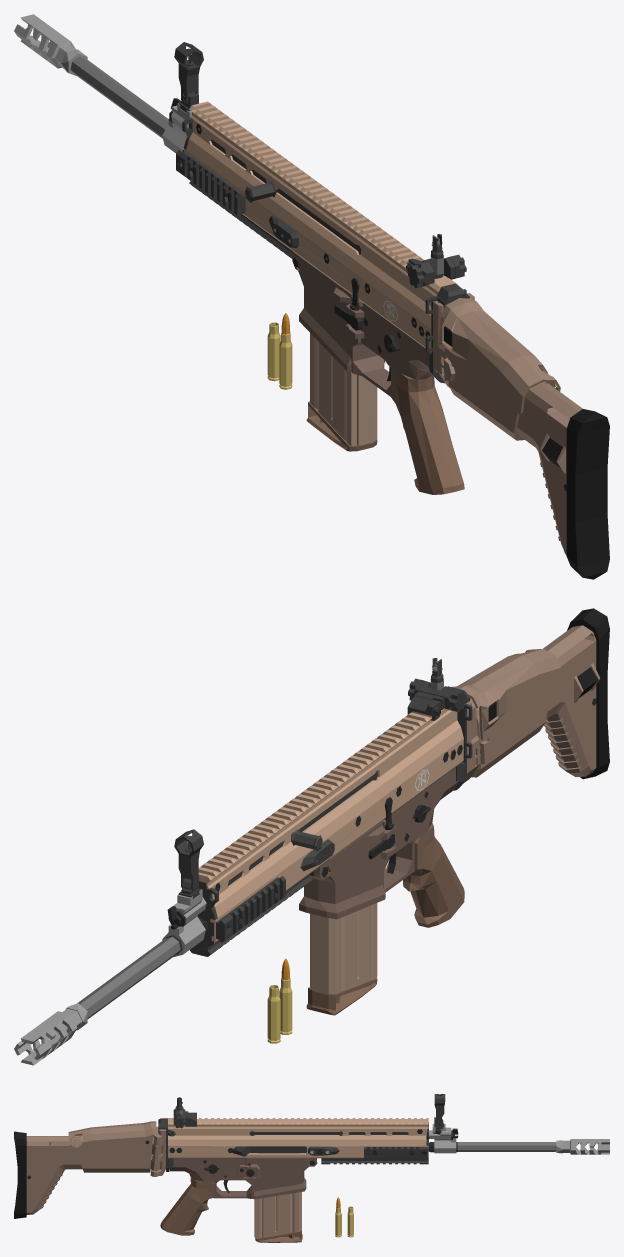
The picture shows the model from 3 angles, top to bottom: view 1: azimuth 30°, elevation 25°; view 2: azimuth 150°, elevation 25°; view 3: azimuth 270°, elevation 25°; orthographic projection. The views are drawn at different scales.
Parts seen in each view (by area): view 1: upper_0, stock_butt_1, shoulder_pad_3, mag_11, stock_2, muzzle_brake_19, rail_sides_7, frontsight_13, rearsight_base_5, 308 lol_17, stock_base_10; view 2: upper_0, stock_butt_1, mag_11, shoulder_pad_3, stock_2, muzzle_brake_19, rail_sides_7, rearsight_base_5, frontsight_13, 308 lol_17, 308 lol.001_16, stock_base_10 (+1 smaller); view 3: upper_0, stock_butt_1, shoulder_pad_3, mag_11, stock_2, bolt_carrier_group_15, rail_sides_7, muzzle_brake_19, stock_base_10, rearsight_base_5, frontsight_13, 308 lol_17.
Part boxes in pixels (left/top/right/bottom): upper_0: left=70, top=56, right=469, bottom=494; stock_butt_1: left=517, top=383, right=609, bottom=579; shoulder_pad_3: left=440, top=298, right=560, bottom=413; mag_11: left=306, top=333, right=377, bottom=451; stock_2: left=444, top=358, right=555, bottom=440; muzzle_brake_19: left=14, top=14, right=87, bottom=75; rail_sides_7: left=176, top=150, right=245, bottom=216; frontsight_13: left=174, top=42, right=203, bottom=105; rearsight_base_5: left=406, top=254, right=466, bottom=288; 308 lol_17: left=279, top=313, right=292, bottom=389; stock_base_10: left=433, top=293, right=481, bottom=387; upper_0: left=77, top=686, right=472, bottom=1018; stock_butt_1: left=543, top=608, right=609, bottom=779; mag_11: left=306, top=903, right=377, bottom=1015; shoulder_pad_3: left=452, top=649, right=560, bottom=740; stock_2: left=470, top=651, right=549, bottom=777; muzzle_brake_19: left=14, top=1003, right=87, bottom=1065; rail_sides_7: left=216, top=876, right=285, bottom=942; rearsight_base_5: left=407, top=678, right=466, bottom=720; frontsight_13: left=174, top=829, right=203, bottom=891; 308 lol_17: left=279, top=958, right=292, bottom=1034; 308 lol.001_16: left=267, top=985, right=280, bottom=1043; stock_base_10: left=463, top=701, right=480, bottom=783; upper_0: left=158, top=1118, right=556, bottom=1235; stock_butt_1: left=14, top=1131, right=82, bottom=1218; shoulder_pad_3: left=68, top=1121, right=156, bottom=1156; mag_11: left=254, top=1153, right=302, bottom=1242; stock_2: left=72, top=1135, right=161, bottom=1172; bolt_carrier_group_15: left=249, top=1131, right=408, bottom=1152; rail_sides_7: left=364, top=1147, right=428, bottom=1158; muzzle_brake_19: left=556, top=1139, right=609, bottom=1154; stock_base_10: left=150, top=1126, right=165, bottom=1176; rearsight_base_5: left=173, top=1107, right=196, bottom=1128; frontsight_13: left=434, top=1094, right=445, bottom=1125; 308 lol_17: left=335, top=1197, right=341, bottom=1237.
Bounding box in the file's own units: 0.0618 × 0.2606 × 0.9683.
